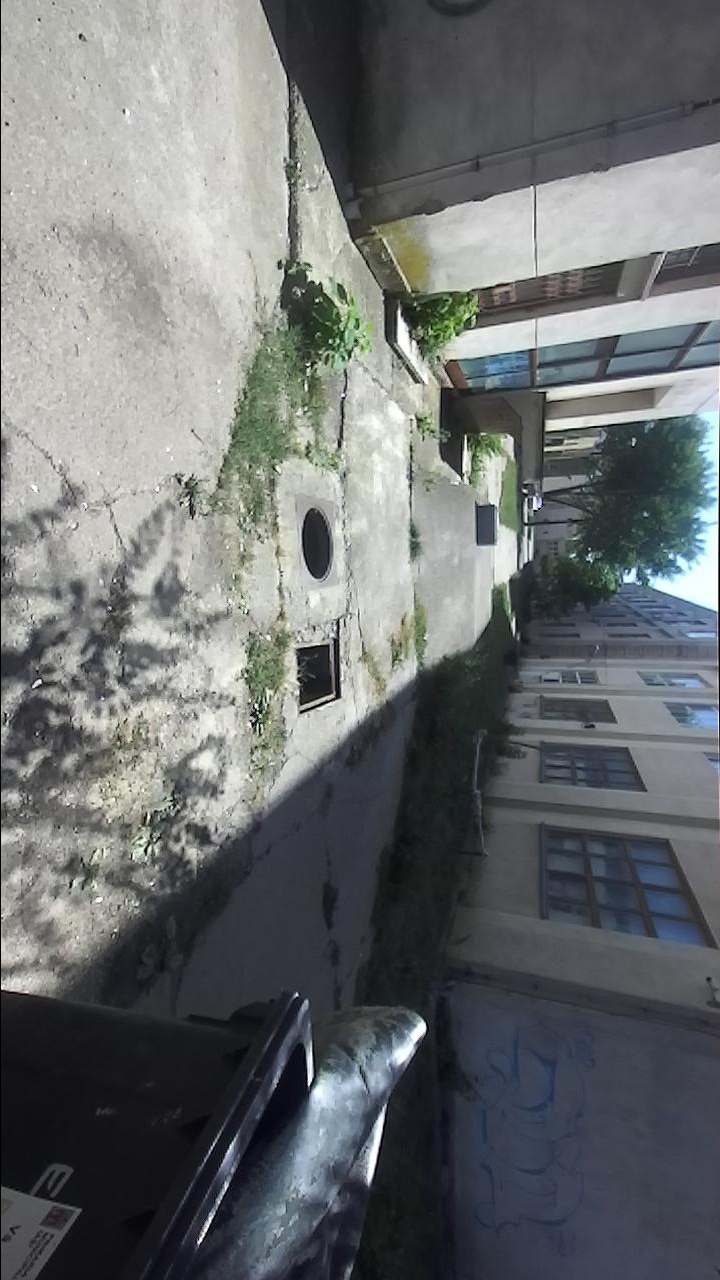drain: (290, 634, 345, 719), (300, 503, 335, 588)
